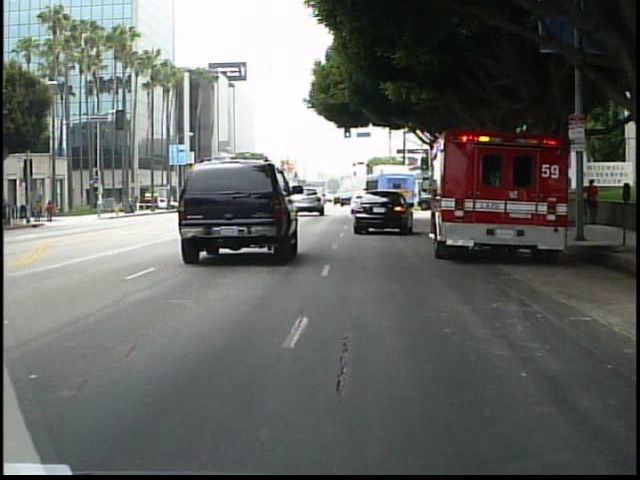person: (582, 178, 601, 228), (46, 198, 59, 226), (34, 200, 47, 225)
